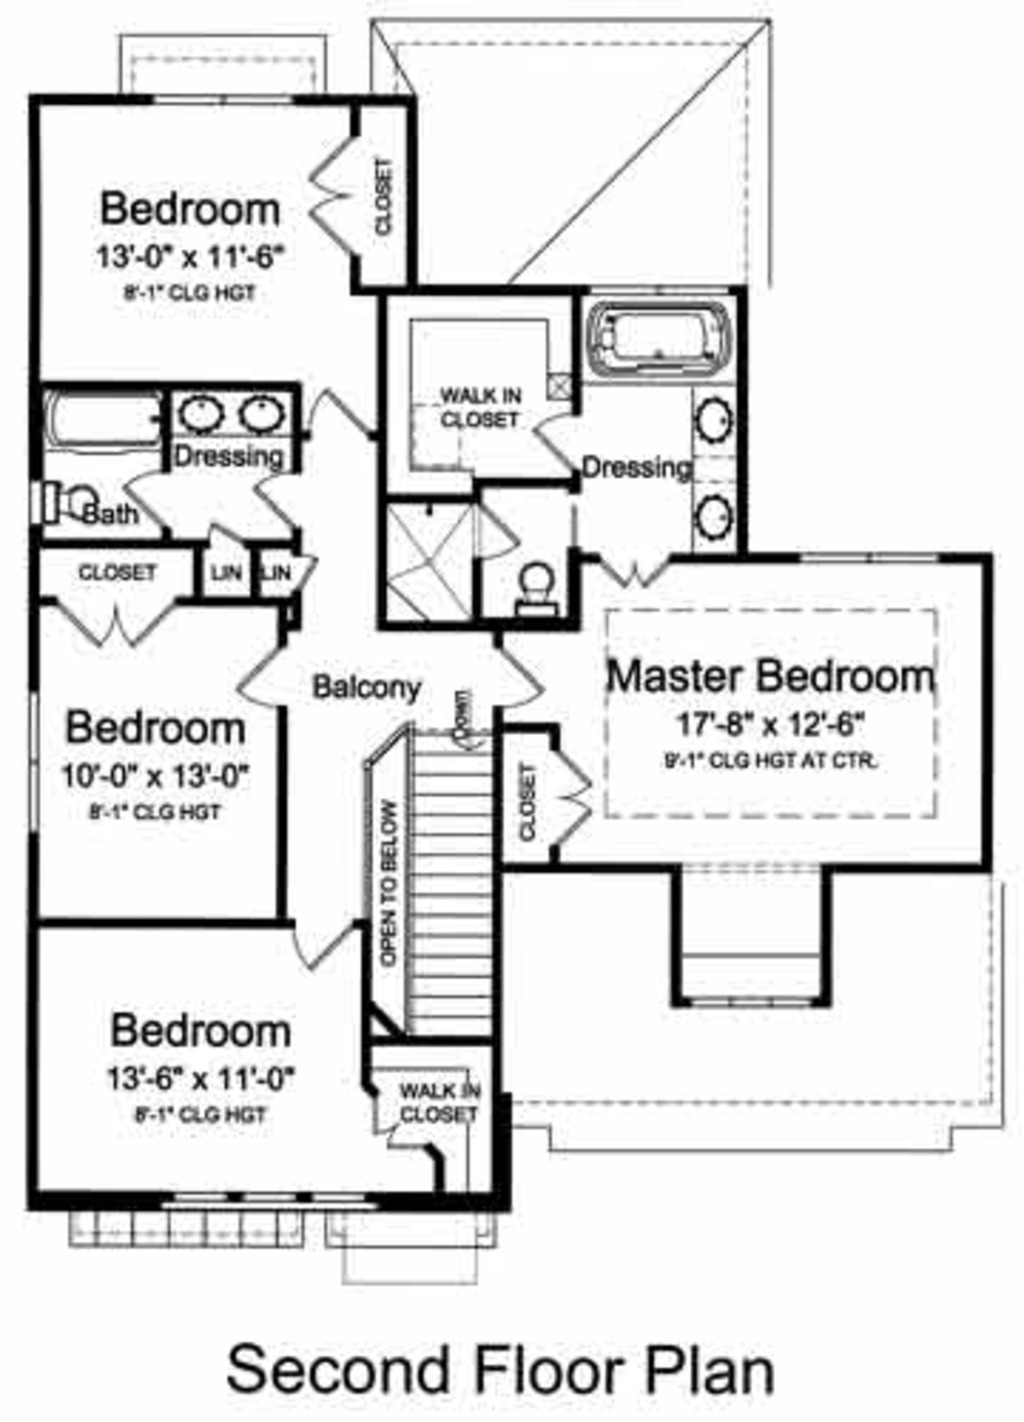door: (56, 598, 185, 652), (305, 130, 355, 266), (538, 751, 593, 857), (290, 910, 364, 977), (303, 384, 385, 444), (584, 548, 676, 594), (519, 406, 582, 469), (232, 634, 282, 710), (122, 466, 177, 534), (255, 461, 305, 533)
large_sink: (29, 468, 99, 535), (503, 559, 575, 622)
small_sink: (679, 389, 744, 556), (158, 388, 297, 452)
stairs: (403, 721, 497, 1044)
tub: (576, 294, 742, 384), (47, 389, 166, 456)
windows: (175, 1184, 382, 1216), (19, 686, 49, 839), (679, 986, 817, 1018), (790, 548, 943, 575)
